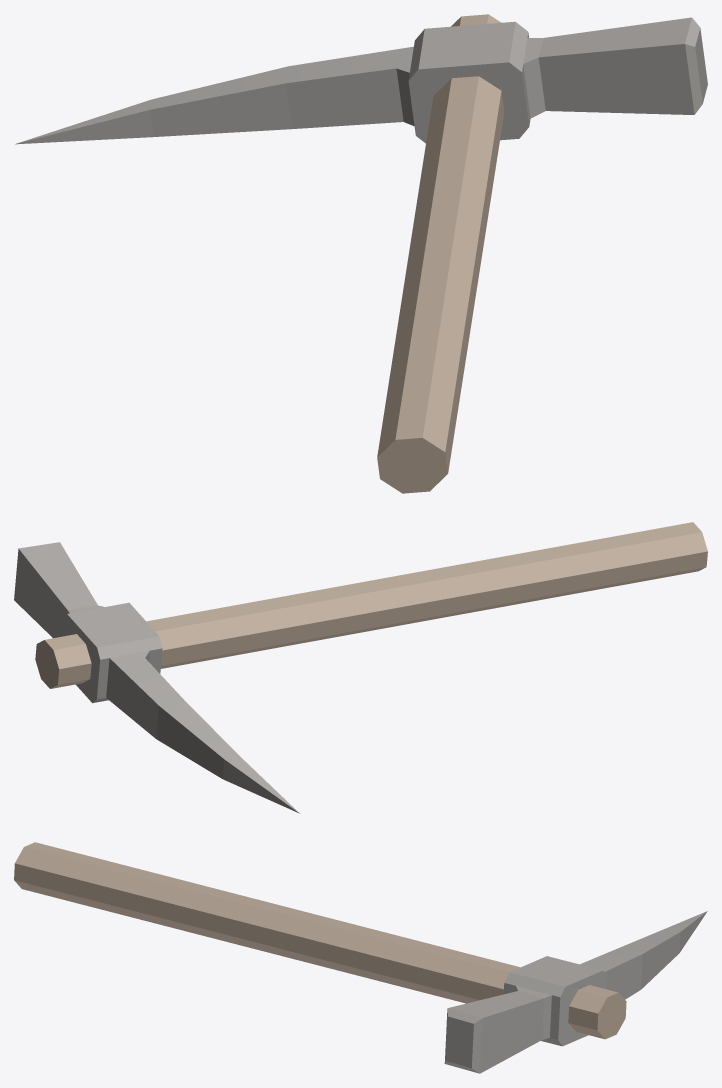
File: Cave_Prop_Pick_Small.glb
3 views of the same model, one above another, from view 1: azimuth 30°, elevation 25°; view 2: azimuth 150°, elevation 25°; view 3: azimuth 270°, elevation 25° (orthographic). The views are drawn at different scales.
Visible parts, largest first — view 1: Cave_Prop_Pick_Small; view 2: Cave_Prop_Pick_Small; view 3: Cave_Prop_Pick_Small.
Part boxes in pixels (x1,y1,x2,y2): Cave_Prop_Pick_Small: (15, 14, 707, 493); Cave_Prop_Pick_Small: (14, 522, 707, 813); Cave_Prop_Pick_Small: (14, 842, 707, 1073).
Size of the model in its own units: 0.1715 by 0.0292 by 0.2249.
